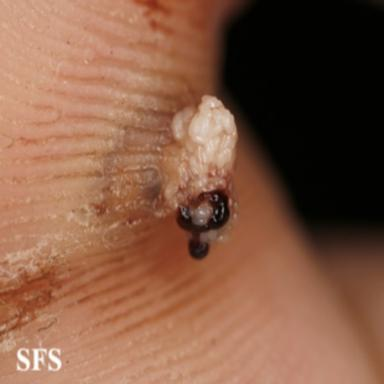Tungiasis: (162, 95, 238, 259)
